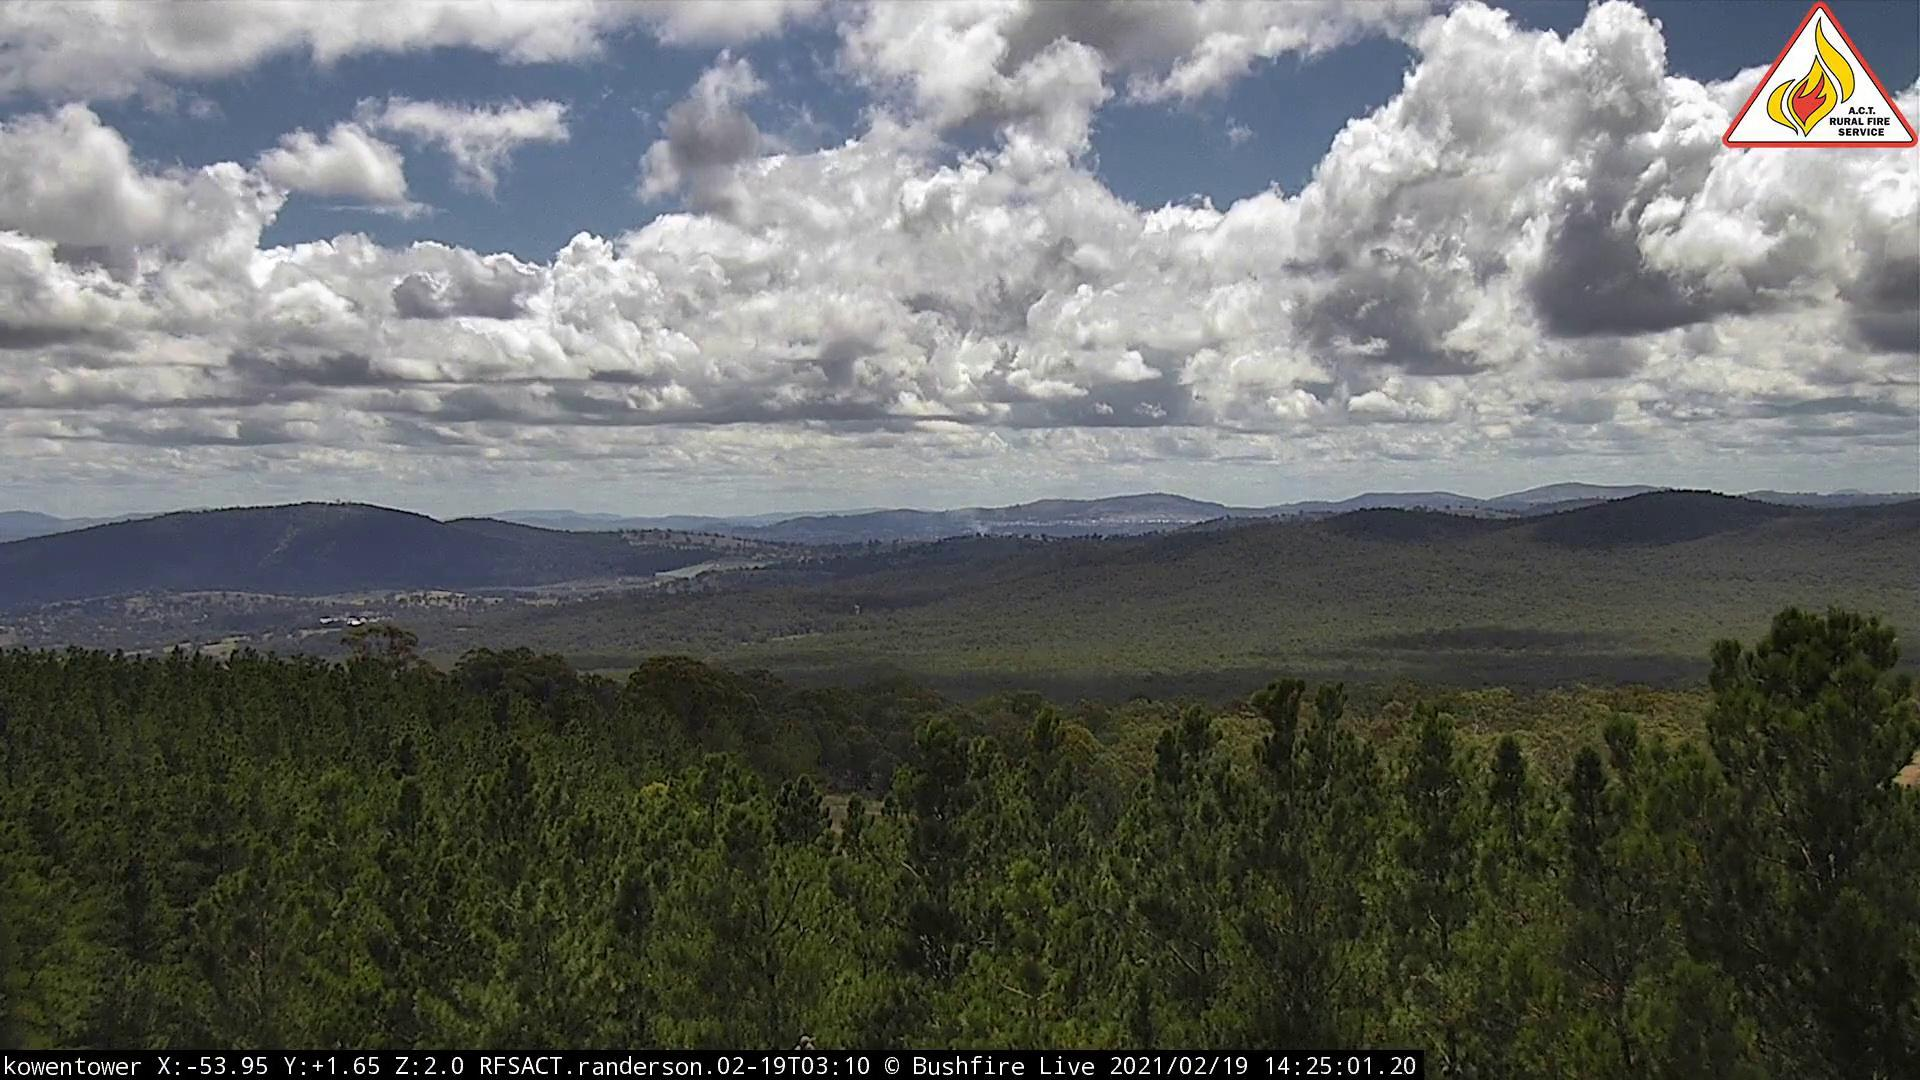Smoke: (949, 502, 998, 549)
